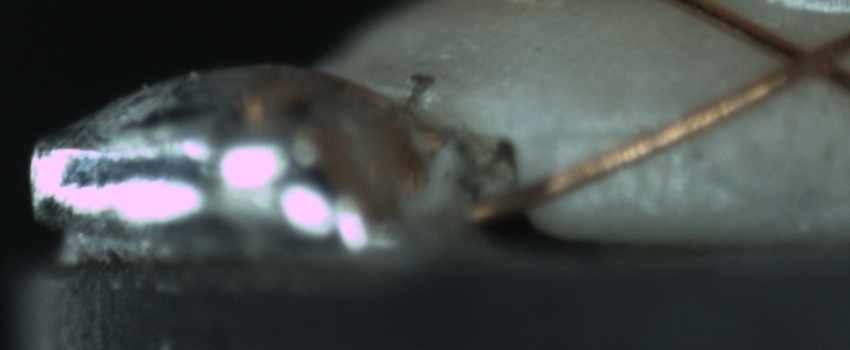CL: (754, 25, 845, 95)
DL: (546, 102, 667, 160)
